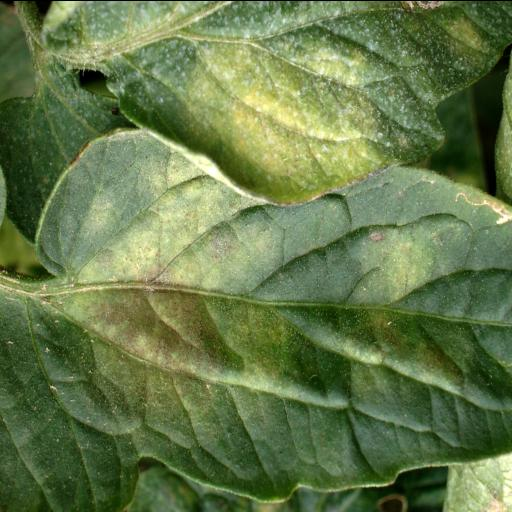disease_tomato: (12, 128, 512, 512)
